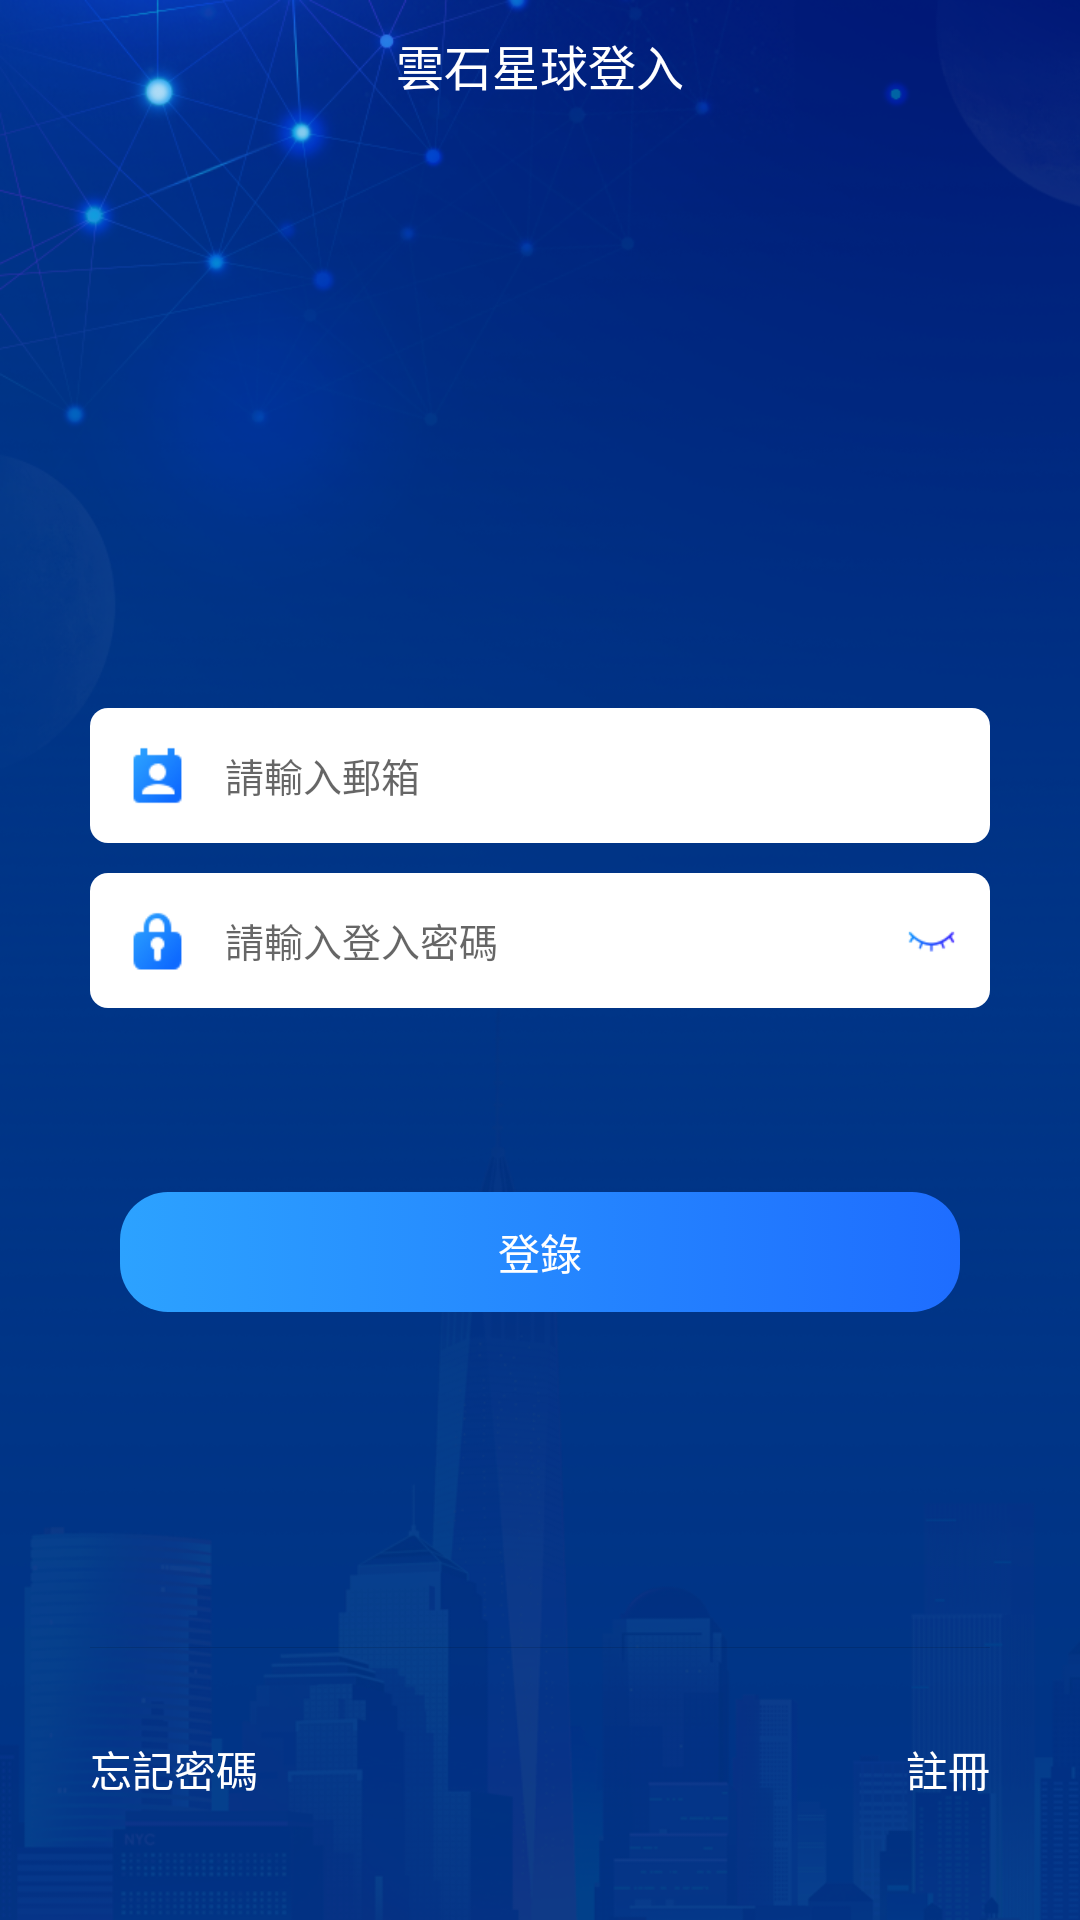

Icons on this 1080w x 1920h Android screen, each with the point to tap as (x,y):
login mima: (157,941)
login zhanghao: (157,775)
